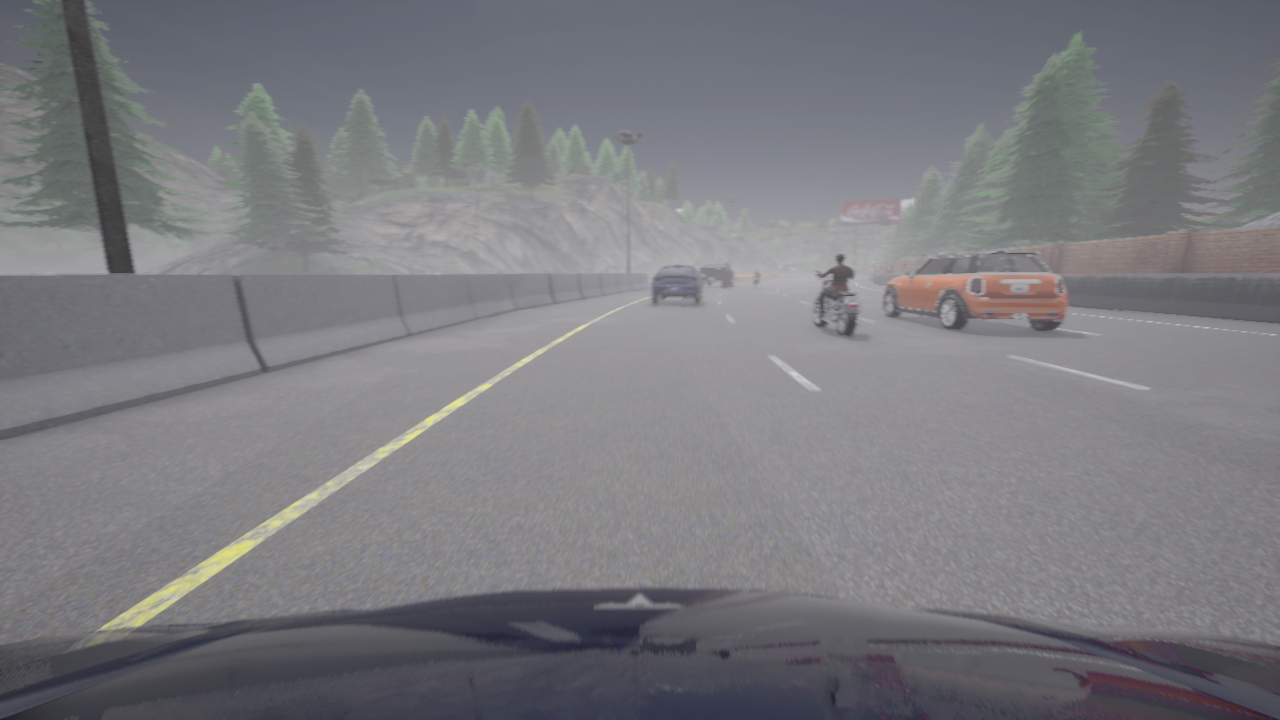cyclist: (0, 588, 1279, 719), (882, 246, 1066, 331), (813, 269, 862, 337), (652, 266, 704, 303), (699, 263, 733, 287), (753, 275, 758, 288)
